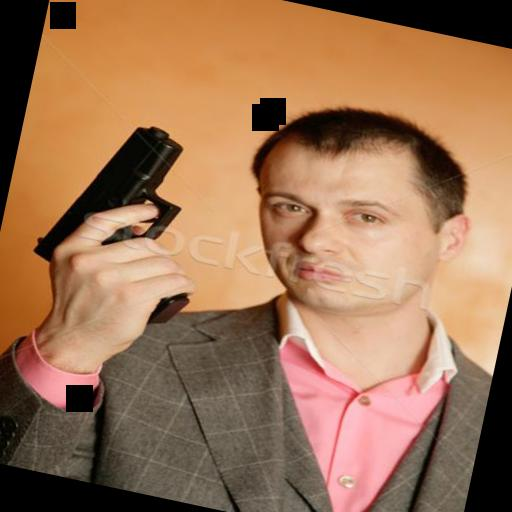Handgun: (12, 86, 224, 330)
